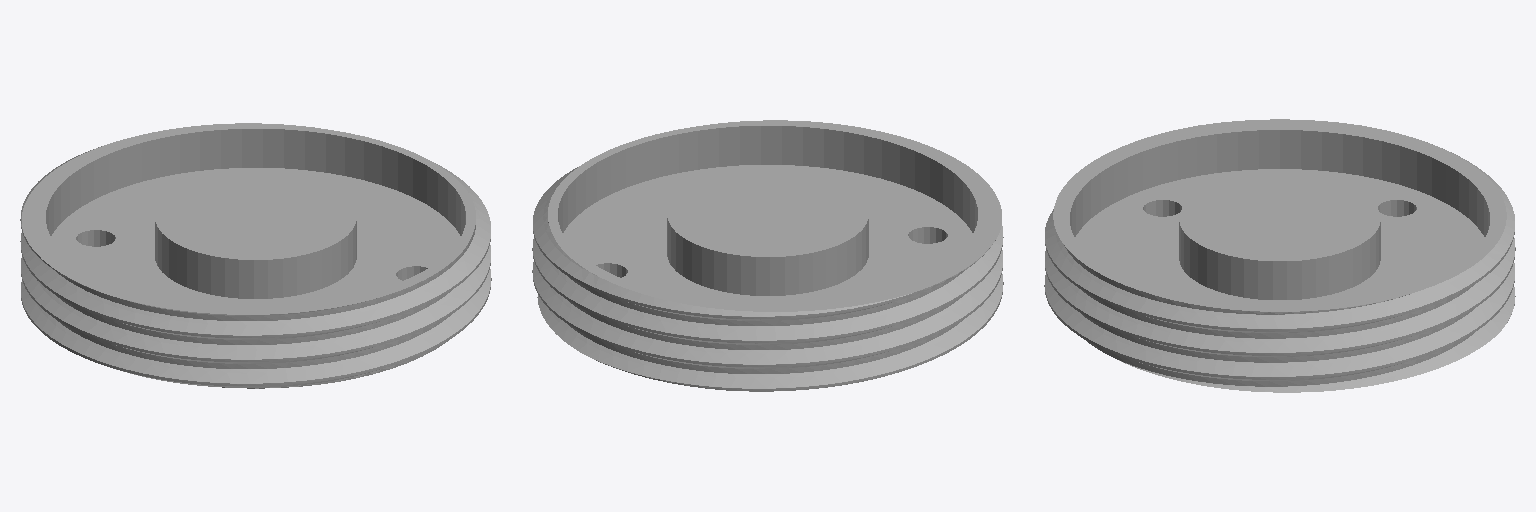
URDF robot description (Rosca_UR3):
<?xml version="1.0" encoding="utf-8"?>
<!-- =================================================================================== -->
<!-- |    This document was autogenerated by xacro from Rosca_UR3.xacro                | -->
<!-- |    EDITING THIS FILE BY HAND IS NOT RECOMMENDED                                 | -->
<!-- =================================================================================== -->
<robot name="Rosca_UR3">
  <material name="silver">
    <color rgba="0.700 0.700 0.700 1.000"/>
  </material>
  <gazebo>
    <plugin filename="libgazebo_ros_control.so" name="control"/>
  </gazebo>
  <gazebo reference="base_link">
    <material>Gazebo/Silver</material>
    <mu1>0.2</mu1>
    <mu2>0.2</mu2>
    <selfCollide>true</selfCollide>
    <gravity>true</gravity>
  </gazebo>
  <link name="base_link">
    <inertial>
      <origin rpy="0 0 0" xyz="-8.863797352811024e-05 8.924358068701335e-05 0.004939305751895978"/>
      <mass value="0.24684642771317108"/>
      <inertia ixx="7.4e-05" ixy="0.0" ixz="-0.0" iyy="7.4e-05" iyz="-0.0" izz="0.000141"/>
    </inertial>
    <visual>
      <origin rpy="0 0 0" xyz="0 0 0"/>
      <geometry>
        <mesh filename="package://Rosca_UR3_description/meshes/base_link.stl" scale="0.001 0.001 0.001"/>
      </geometry>
      <material name="silver"/>
    </visual>
    <collision>
      <origin rpy="0 0 0" xyz="0 0 0"/>
      <geometry>
        <mesh filename="package://Rosca_UR3_description/meshes/base_link.stl" scale="0.001 0.001 0.001"/>
      </geometry>
    </collision>
  </link>
</robot>

--- Render facts (derived) ---
The picture shows the robot from 3 angles, left to right: view 1: azimuth 30°, elevation 25°; view 2: azimuth 150°, elevation 25°; view 3: azimuth 270°, elevation 25°; orthographic projection.
Model Rosca_UR3 with 1 links and 0 joints (none), rooted at base_link, posed all joints at 0.
Links seen in each view (by area): view 1: base_link; view 2: base_link; view 3: base_link.
Link boxes in pixels (x1,y1,x2,y2): base_link: (20, 123, 491, 388); base_link: (532, 120, 1003, 391); base_link: (1044, 119, 1515, 392).
Size in the robot's own frame: 0.0711 by 0.0711 by 0.013 metres.
1 mesh visuals loaded from 1 distinct referenced files (1 binary STL).
